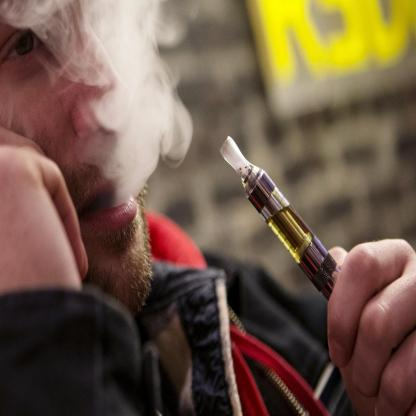smoke: (98, 5, 189, 203)
